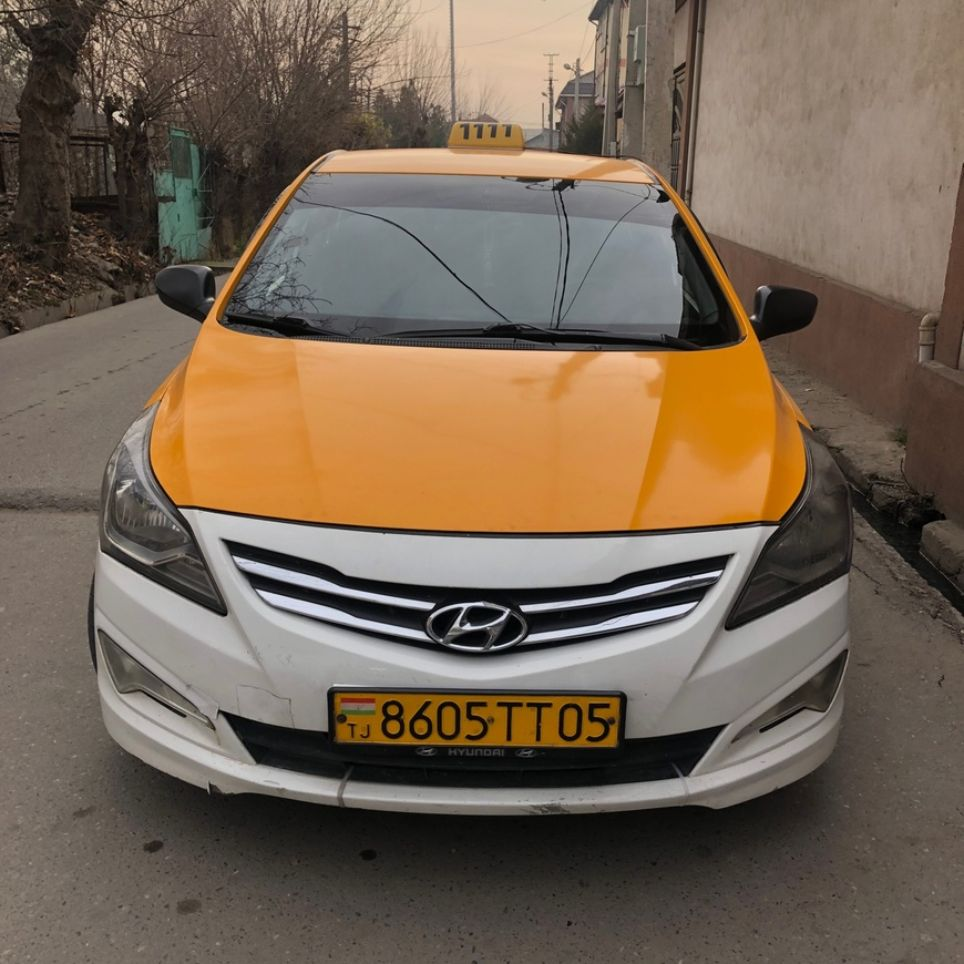license plate: (333, 689, 622, 760)
truck: (72, 123, 863, 850)
